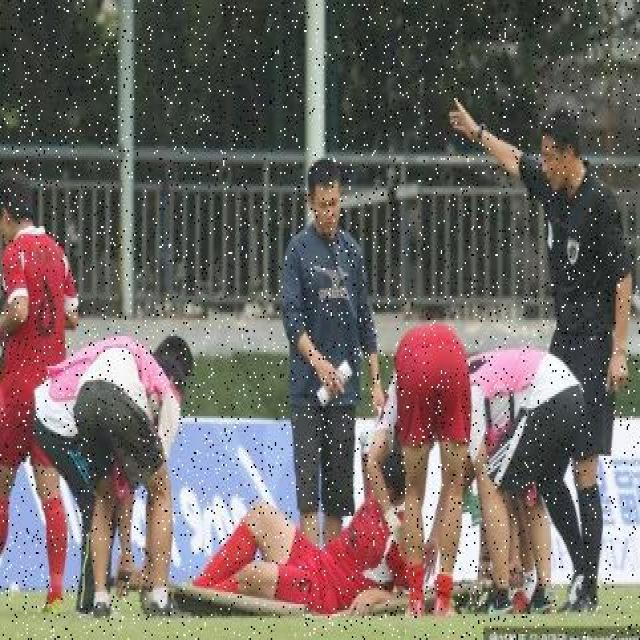fall: (211, 450, 421, 606)
